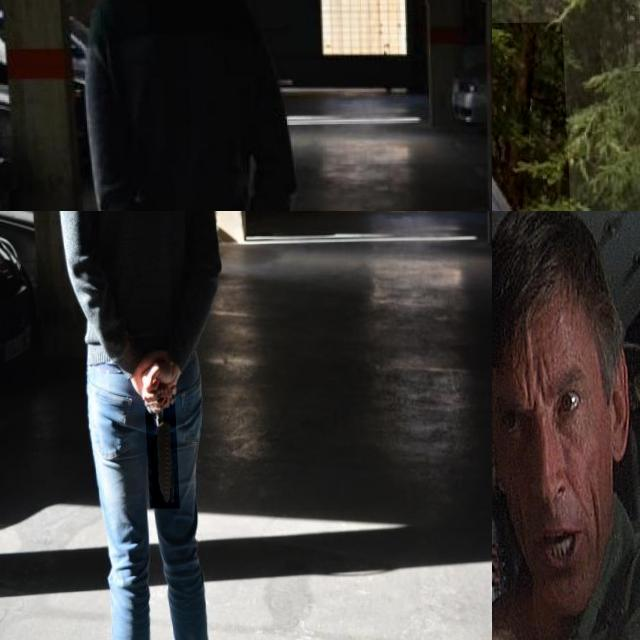-: (492, 23, 597, 211), (142, 398, 176, 510)
gun-knife-thesis - v11 Yolov5 augmented: (492, 335, 640, 640)
